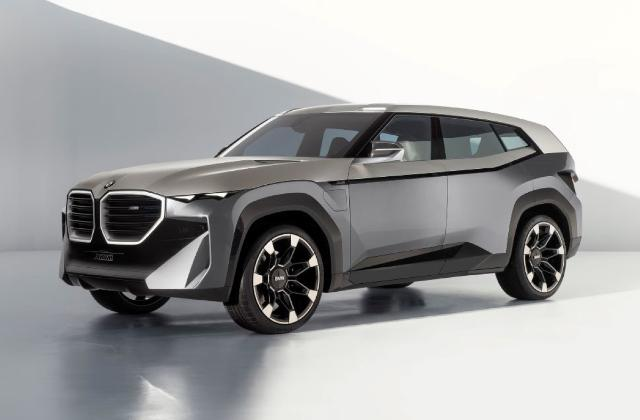bmw: (58, 103, 582, 336)
